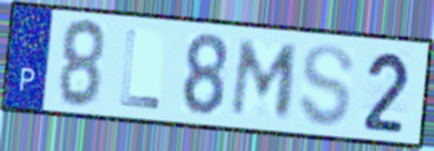2: (357, 45, 416, 136)
8: (56, 16, 110, 111), (181, 31, 231, 119)
L: (117, 26, 163, 112)
M: (227, 36, 303, 120)
S: (295, 41, 357, 130)
